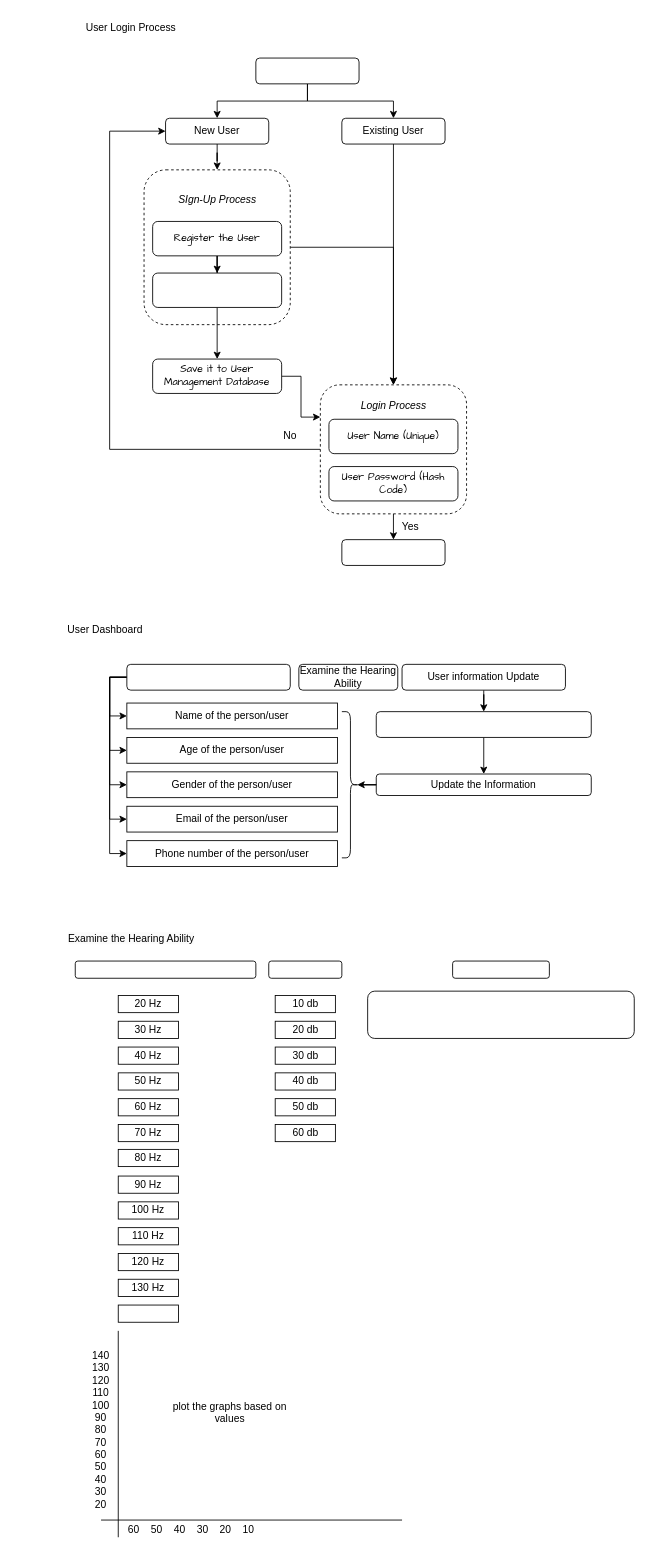
The diagram is 649 pixels wide and 1557 high, and some of its shapes have lost their labels. Here are the shapes that lost their labels. From the top down, the centre of each, then its label:
At [307,70]: "Start".
At [217,289]: "Record the user information".
At [393,552]: "Login Successful".
At [208,676]: "User information View".
At [483,724]: "access database table with user_name".
At [165,969]: "Hearing Range (20hz to 20Khz)".
At [305,969]: "Volume".
At [500,969]: "Response Time".
At [500,1014]: "R(t) = signal time (mili Sec) - sound play time(milli Sec)".
At [147,1313]: "140 Hz".
